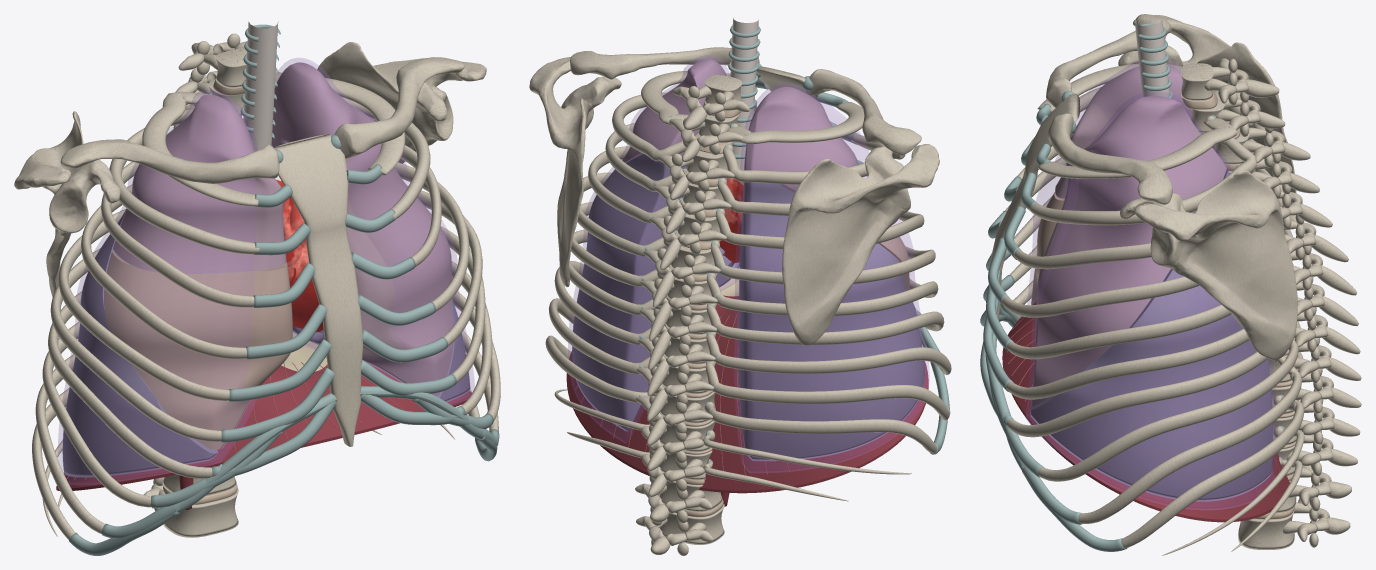
The model's file is pleura-osso-texturizado.glb.
3 renders of one model, left to right at view 1: azimuth 30°, elevation 25°; view 2: azimuth 150°, elevation 25°; view 3: azimuth 270°, elevation 25°, orthographic. The views are drawn at different scales.
Parts seen in each view (by area): view 1: lobo_superior_E, lobo_medio_D, pleura_visceral_lobo_superior_E, pleura_visceral_lobo_medio_D, lobo_superior_D, pleura_visceral_lobo_superior_D, caixa_toracica_osso, lobo_inferior_D, pleura_visceral_lobo_inferior_D, diafragma_diafragma, coluna_osso, escapula_D (+46 smaller); view 2: coluna_osso, lobo_inferior_D, pleura_visceral_lobo_inferior_D, escapula_D, lobo_inferior_E, pleura_visceral_lobo_inferior_E, diafragma_diafragma, escapula_E, lobo_superior_D, pleura_visceral_lobo_superior_D, pleura_parietal_D, costela_articulada_D_9_osso (+32 smaller); view 3: coluna_osso, lobo_inferior_E, pleura_visceral_lobo_inferior_E, lobo_superior_E, pleura_visceral_lobo_superior_E, escapula_E, diafragma_diafragma, pleura_parietal_E, costela_articulada_E_8_osso, escapula_D, costela_articulada_E_7_osso, costela_articulada_E_9_osso (+28 smaller).
Boxes of the visible parts, x1,y1,x2,y2 form: lobo_superior_E: (271,62,453,395); lobo_medio_D: (104,251,292,449); pleura_visceral_lobo_superior_E: (272,62,453,395); pleura_visceral_lobo_medio_D: (104,251,292,449); lobo_superior_D: (113,94,286,273); pleura_visceral_lobo_superior_D: (113,94,286,273); caixa_toracica_osso: (274,134,363,446); lobo_inferior_D: (62,209,217,477); pleura_visceral_lobo_inferior_D: (62,214,217,477); diafragma_diafragma: (56,363,471,509); coluna_osso: (143,33,246,537); escapula_D: (14,111,120,296); coluna_osso: (635,75,749,555); lobo_inferior_D: (738,182,924,461); pleura_visceral_lobo_inferior_D: (738,183,924,459); escapula_D: (782,144,939,345); lobo_inferior_E: (572,154,739,431); pleura_visceral_lobo_inferior_E: (572,154,734,429); diafragma_diafragma: (566,295,928,506); escapula_E: (529,57,621,287); lobo_superior_D: (744,87,857,192); pleura_visceral_lobo_superior_D: (744,87,857,191); pleura_parietal_D: (734,83,929,472); costela_articulada_D_9_osso: (705,361,949,420); coluna_osso: (1181,58,1361,549); lobo_inferior_E: (1030,170,1272,501); pleura_visceral_lobo_inferior_E: (1031,171,1273,499); lobo_superior_E: (1031,96,1226,407); pleura_visceral_lobo_superior_E: (1031,96,1226,406); escapula_E: (1120,170,1297,360); diafragma_diafragma: (1002,302,1289,522); pleura_parietal_E: (1026,91,1277,509); costela_articulada_E_8_osso: (1038,339,1298,481); escapula_D: (1118,15,1296,203); costela_articulada_E_7_osso: (1006,351,1267,437); costela_articulada_E_9_osso: (1078,356,1301,523).
Bounding box in the file's own units: 0.3052 × 0.3483 × 0.231.
Materials: 15 (2 with a texture image).
